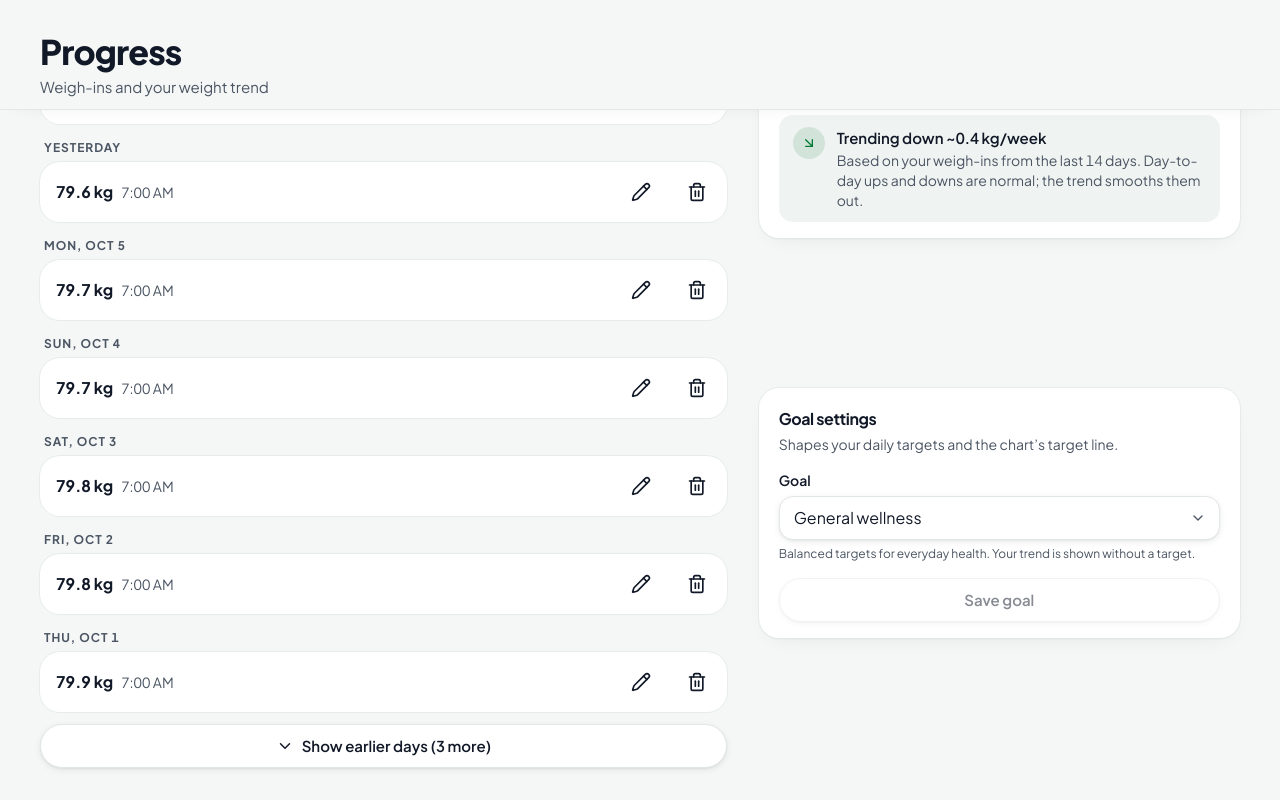
Test: Progress: goal settings › explains a target that does not match the goal and keeps the saved profile
(page scrolled)
Select "Lose weight" in the dropdown labelled "Goal" at [999, 518], box [779,496,1220,540]
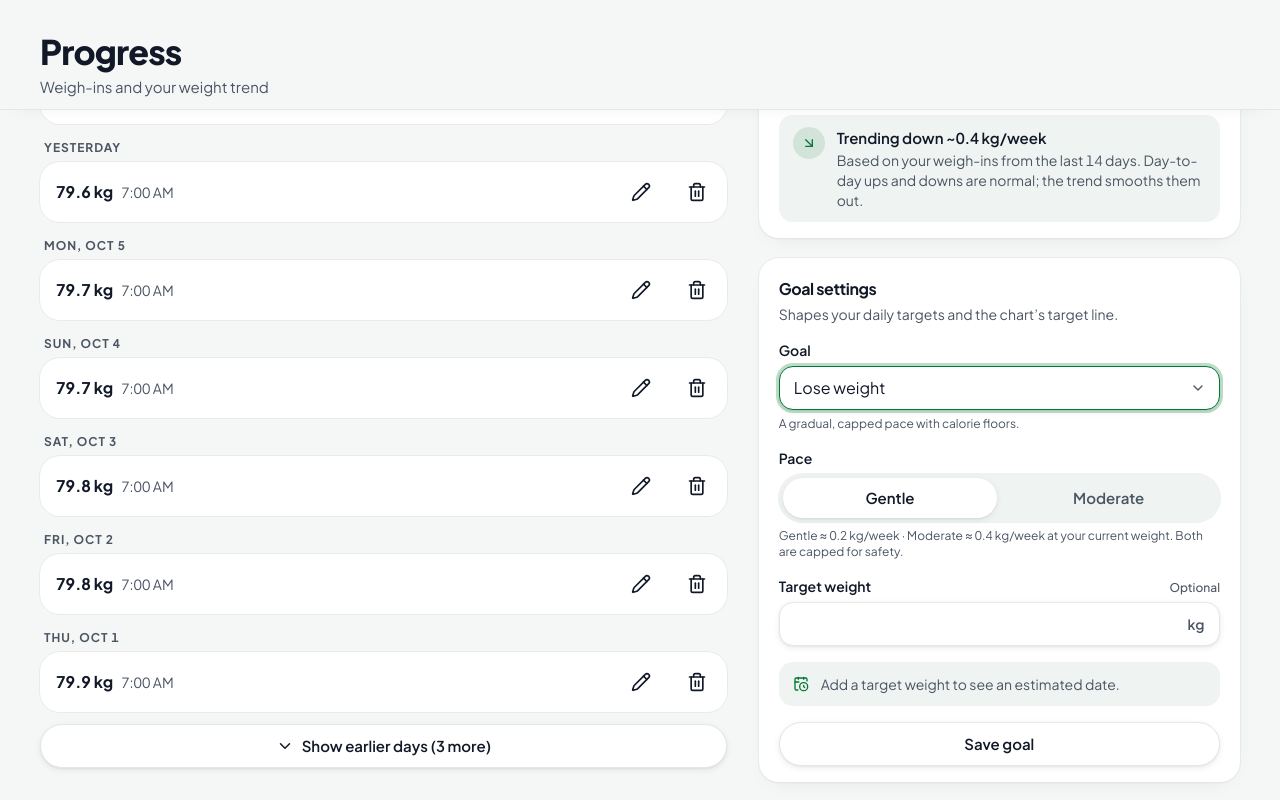
Type "86" into the field labelled "Target weight Optional" at [999, 624], box [779,602,1220,646]
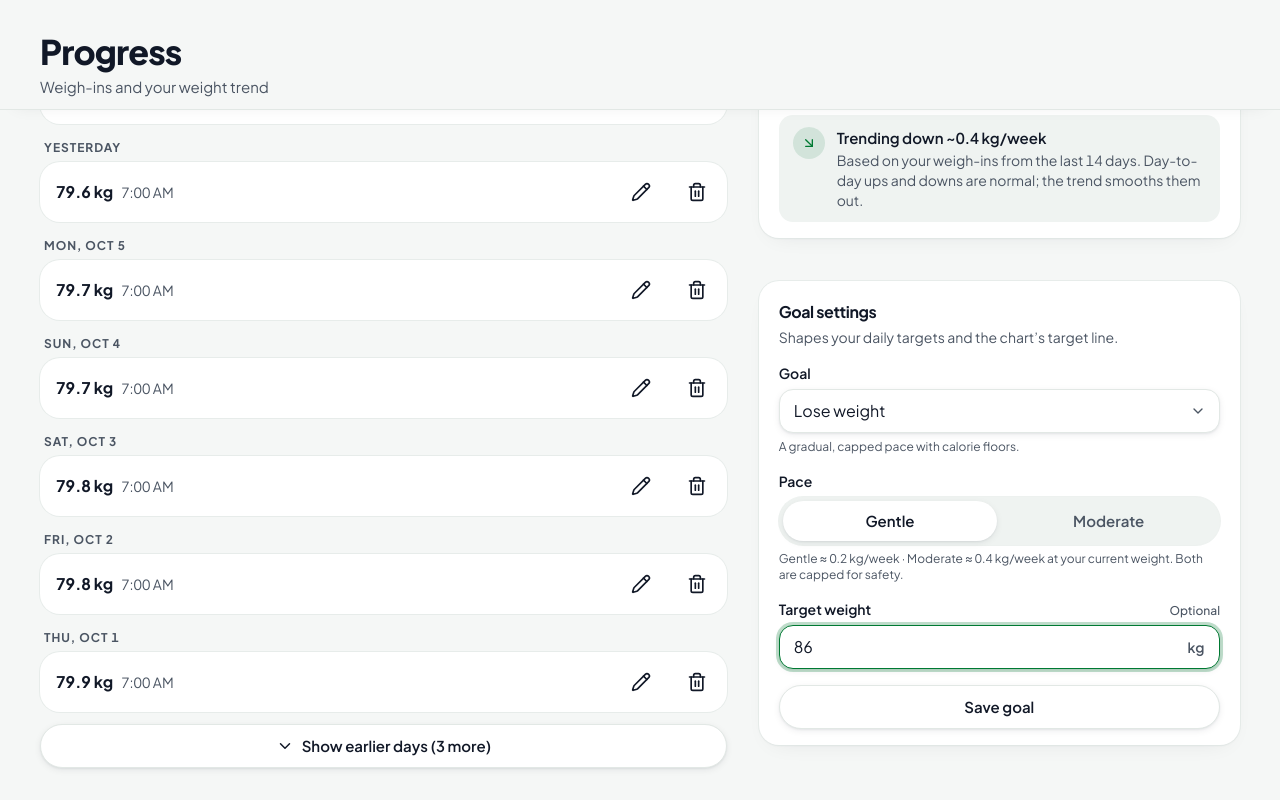
Click the button "Save goal" at [999, 707], box [779,685,1220,729]
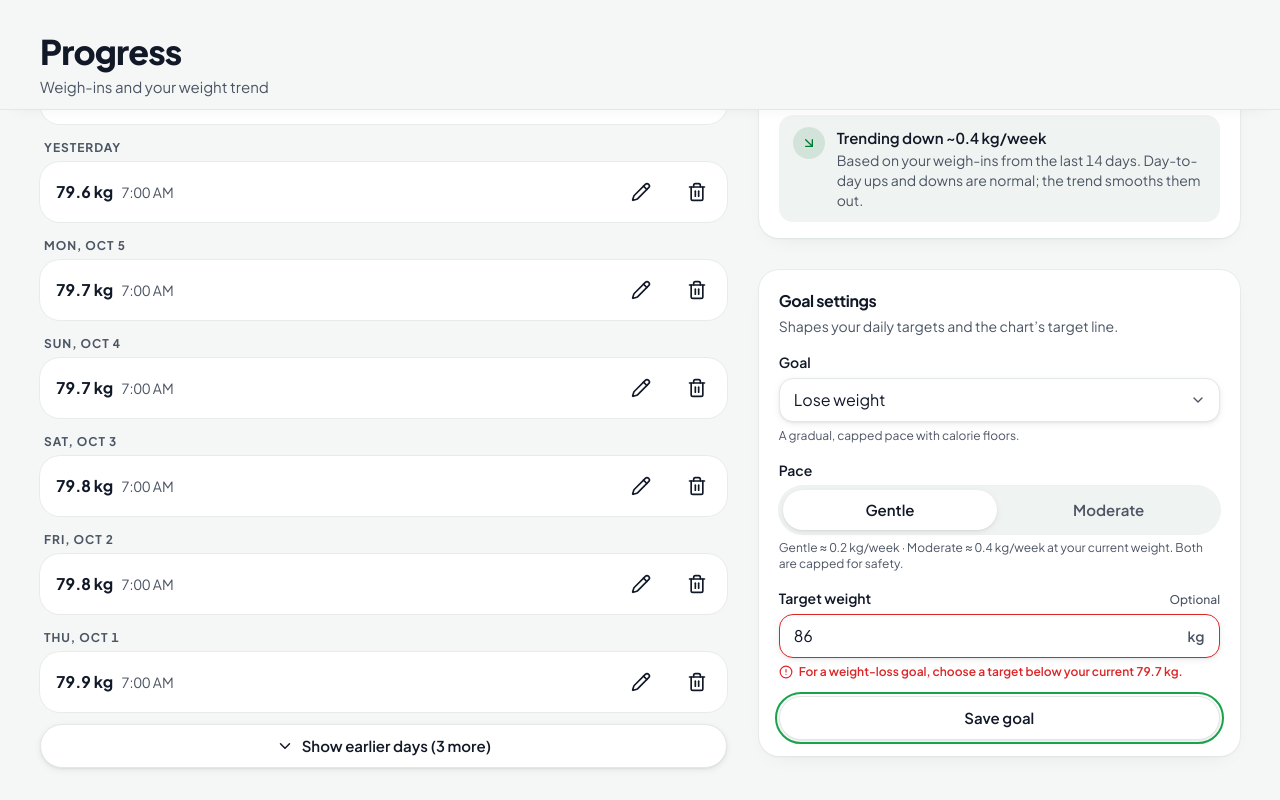
Now the field labelled "Target weight Optional" is marked as invalid
Clear the field labelled "Target weight Optional" at [999, 636], box [779,614,1220,658]
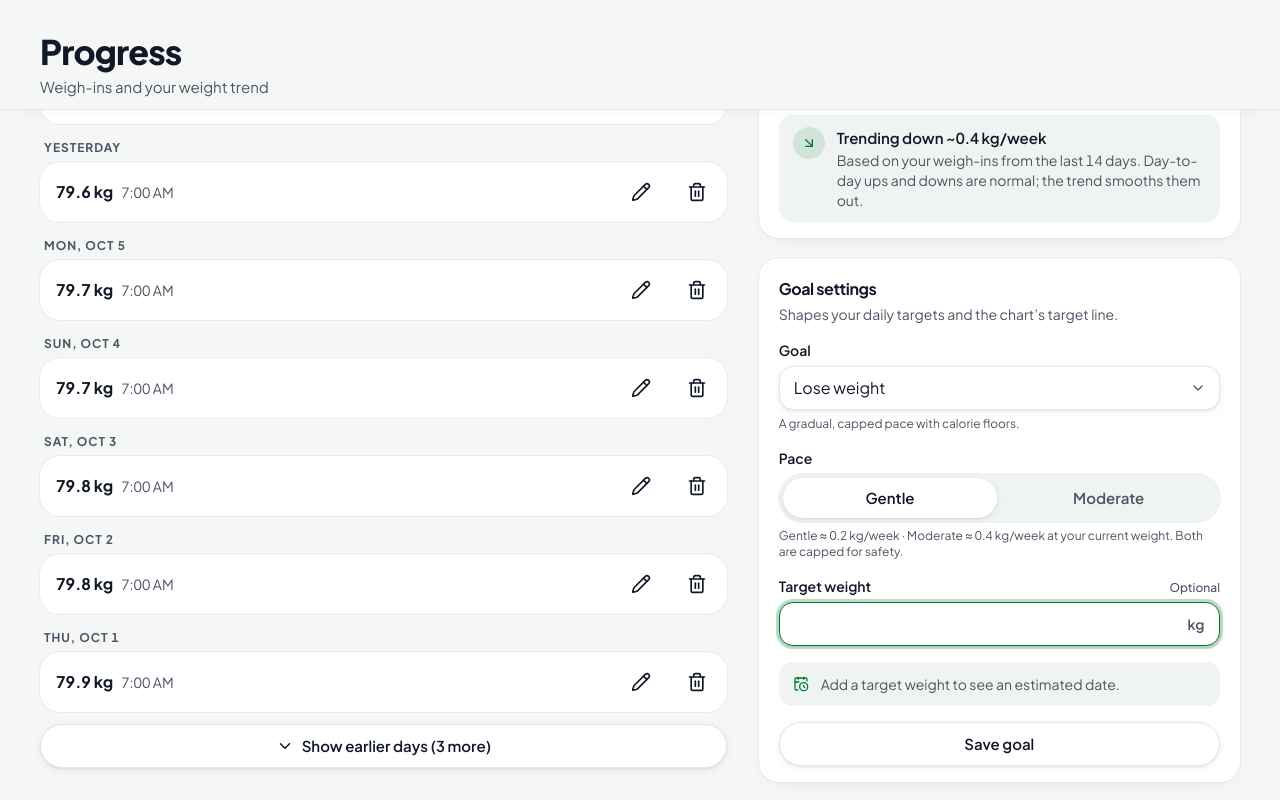
Type "500" into the field labelled "Target weight Optional" at [999, 624], box [779,602,1220,646]
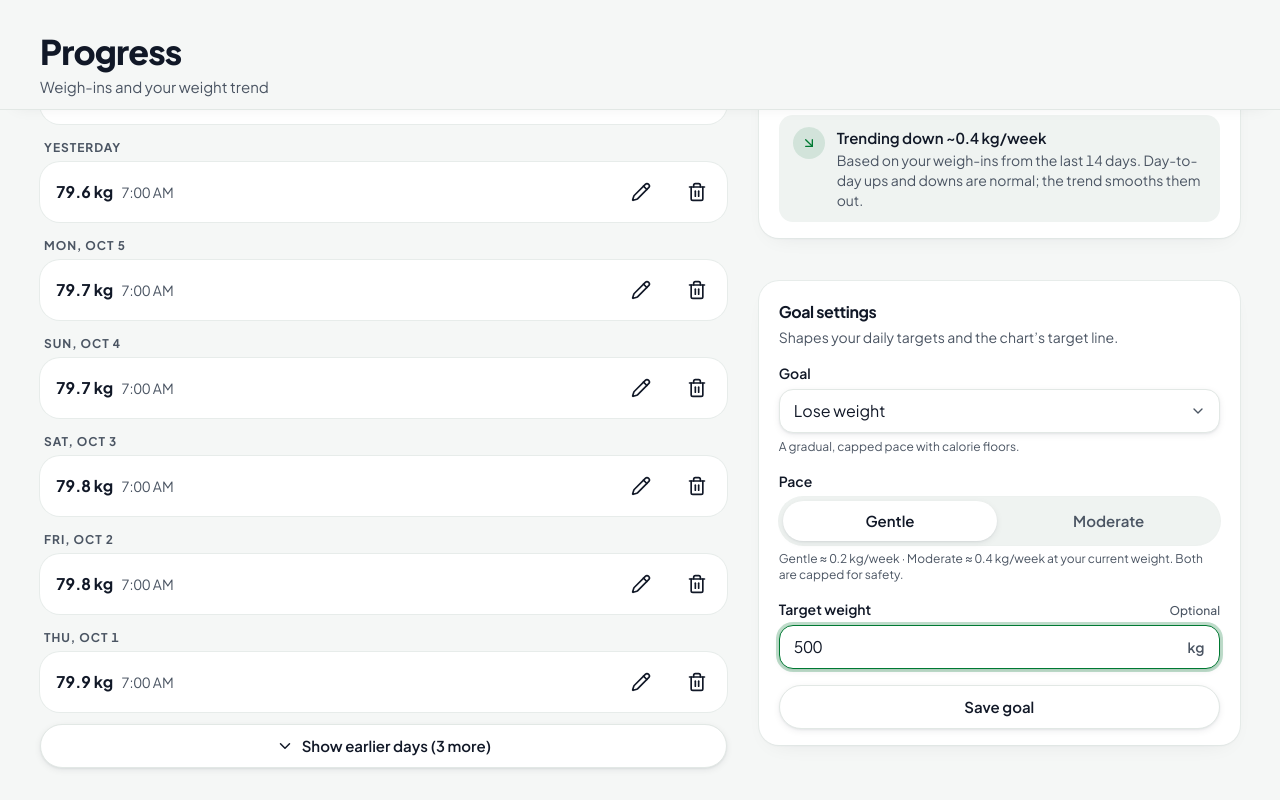
Click the button "Save goal" at [999, 707], box [779,685,1220,729]
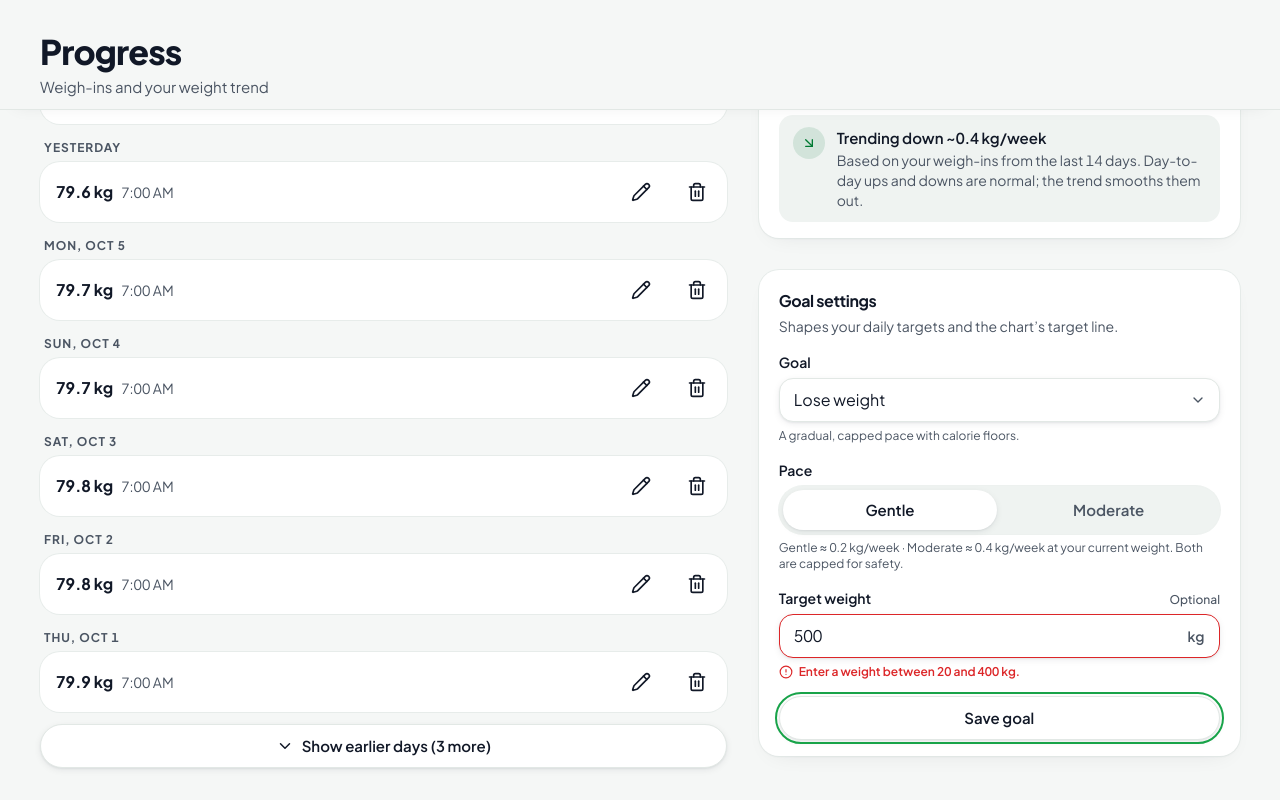
Now the text "Enter a weight between 20 and 400 kg." is shown, box [799,664,1020,680]
